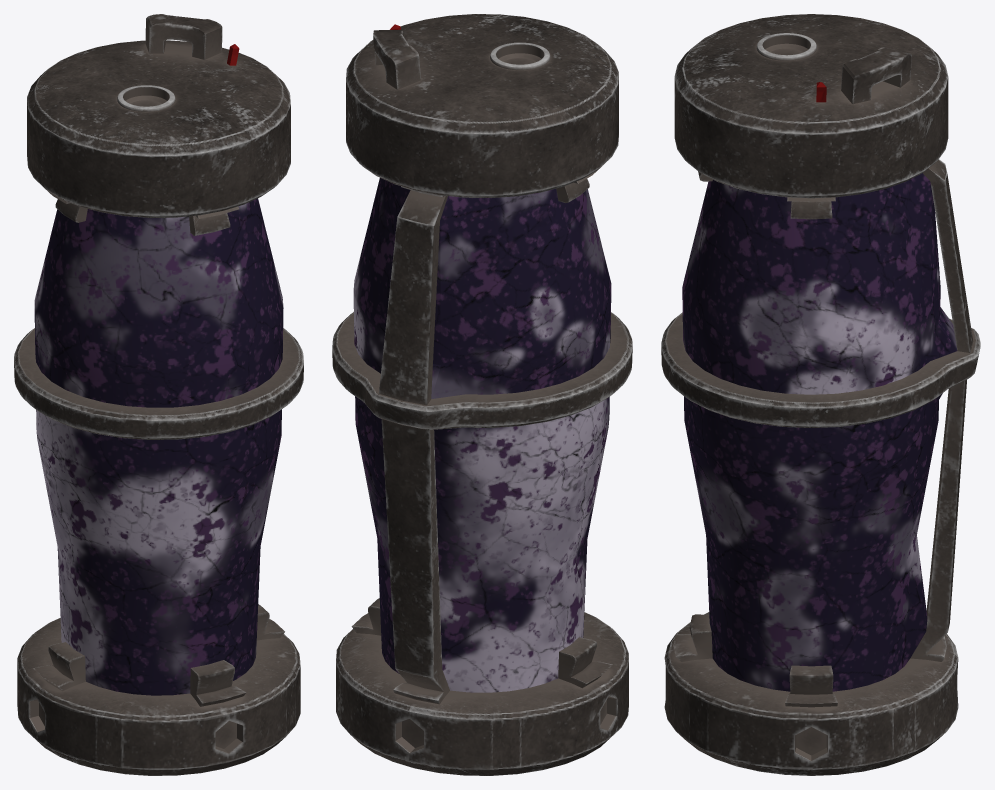
Rendered from Portal_Essence.fbx.
The picture shows the model from 3 angles, left to right: view 1: azimuth 30°, elevation 25°; view 2: azimuth 150°, elevation 25°; view 3: azimuth 270°, elevation 25°; orthographic projection. The views are drawn at different scales.
Visible parts, largest first — view 1: Cylinder; view 2: Cylinder; view 3: Cylinder.
Boxes of the visible parts, x1,y1,x2,y2 form: Cylinder: (14,14,303,775); Cylinder: (332,14,632,775); Cylinder: (661,14,980,775).
Bounding box in the file's own units: 204 × 525 × 217.
Materials: 3 (3 with a texture image).
